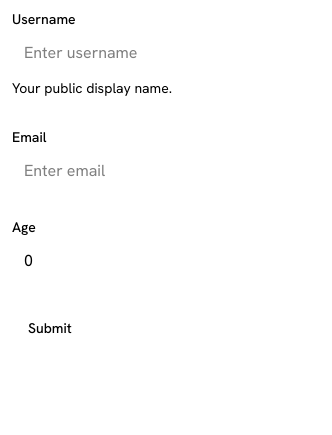
Test: Form Component › Validation › should show validation errors when form is submitted with empty fields
This screenshot has width=332, height=435.
Click the button "Submit" at (50, 328), box left=12, top=310, right=88, bottom=346
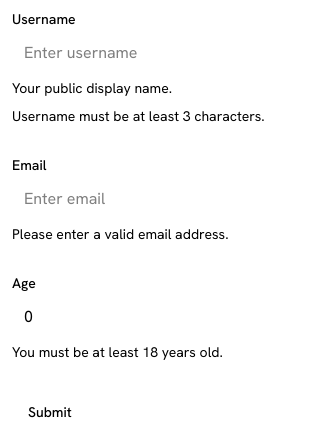
Now the text "Username must be at least 3 characters." is shown, box left=12, top=107, right=265, bottom=125
Now the text "Please enter a valid email address." is shown, box left=12, top=225, right=228, bottom=243
Now the text "You must be at least 18 years old." is shown, box left=12, top=343, right=223, bottom=361
